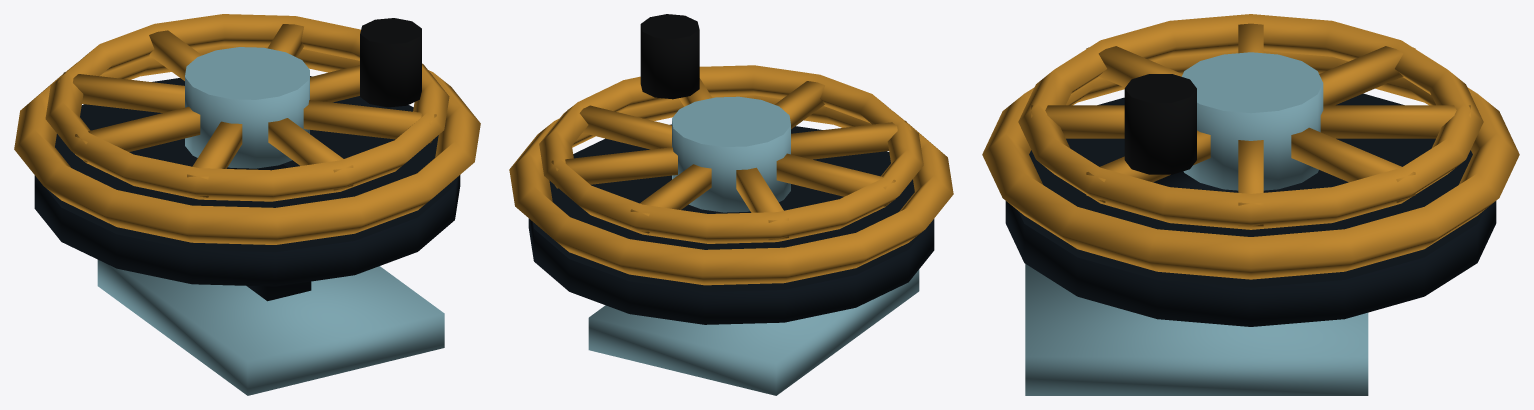
Rendered from fly.glb.
3 renders of one model, left to right at view 1: azimuth 30°, elevation 25°; view 2: azimuth 150°, elevation 25°; view 3: azimuth 270°, elevation 25°, orthographic. The views are drawn at different scales.
Parts seen in each view (by area): view 1: Body, Spool, Crank; view 2: Body, Spool, Crank; view 3: Body, Spool, Crank.
Boxes of the visible parts, box(x1,y1,x2,y2) form: Body: box(14, 45, 480, 395); Spool: box(45, 14, 449, 201); Crank: box(360, 18, 421, 107); Body: box(509, 95, 953, 395); Spool: box(539, 65, 923, 243); Crank: box(640, 14, 699, 99); Body: box(982, 51, 1519, 395); Spool: box(1018, 14, 1483, 229); Crank: box(1124, 74, 1196, 174).
Size of the model in its own units: 1.49 by 0.95 by 1.49.
1 material, 1 textured.
